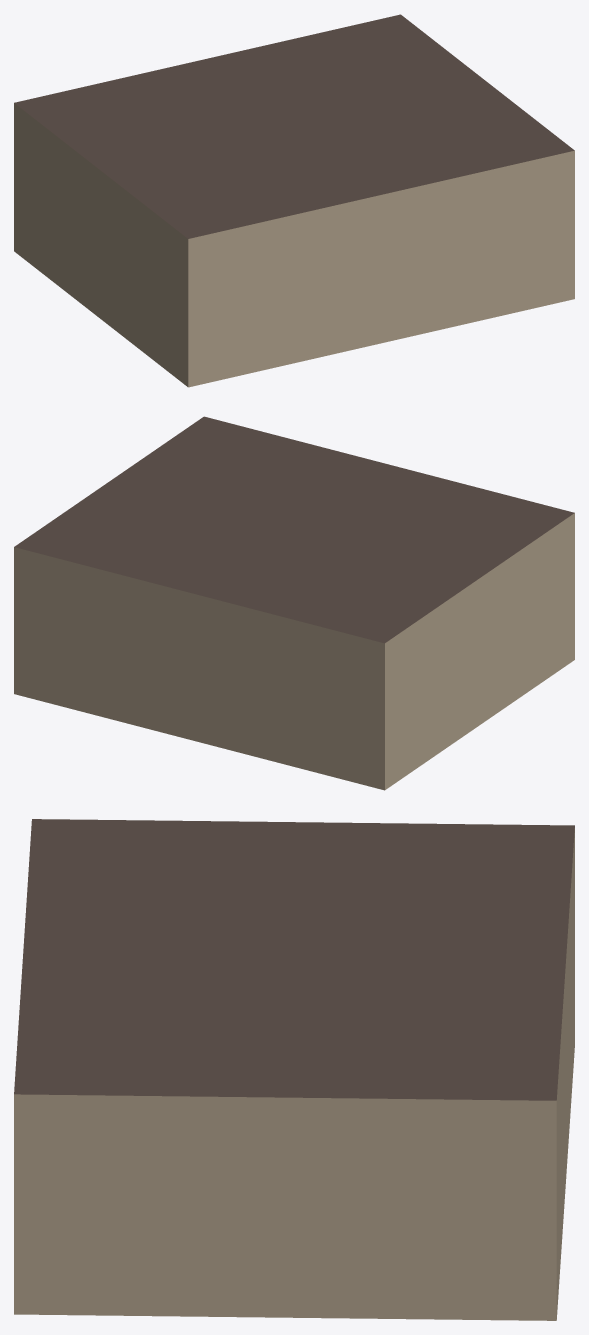
The picture shows the model from 3 angles, top to bottom: view 1: azimuth 30°, elevation 25°; view 2: azimuth 150°, elevation 25°; view 3: azimuth 270°, elevation 25°; orthographic projection. The views are drawn at different scales.
Visible parts, largest first — view 1: HP-w389701999; view 2: HP-w389701999; view 3: HP-w389701999.
Part boxes in pixels (x1,y1,x2,y2): HP-w389701999: [14, 14, 574, 387]; HP-w389701999: [14, 416, 574, 790]; HP-w389701999: [14, 819, 574, 1320].
Bounding box in the file's own units: 24.71 × 9 × 20.79.
